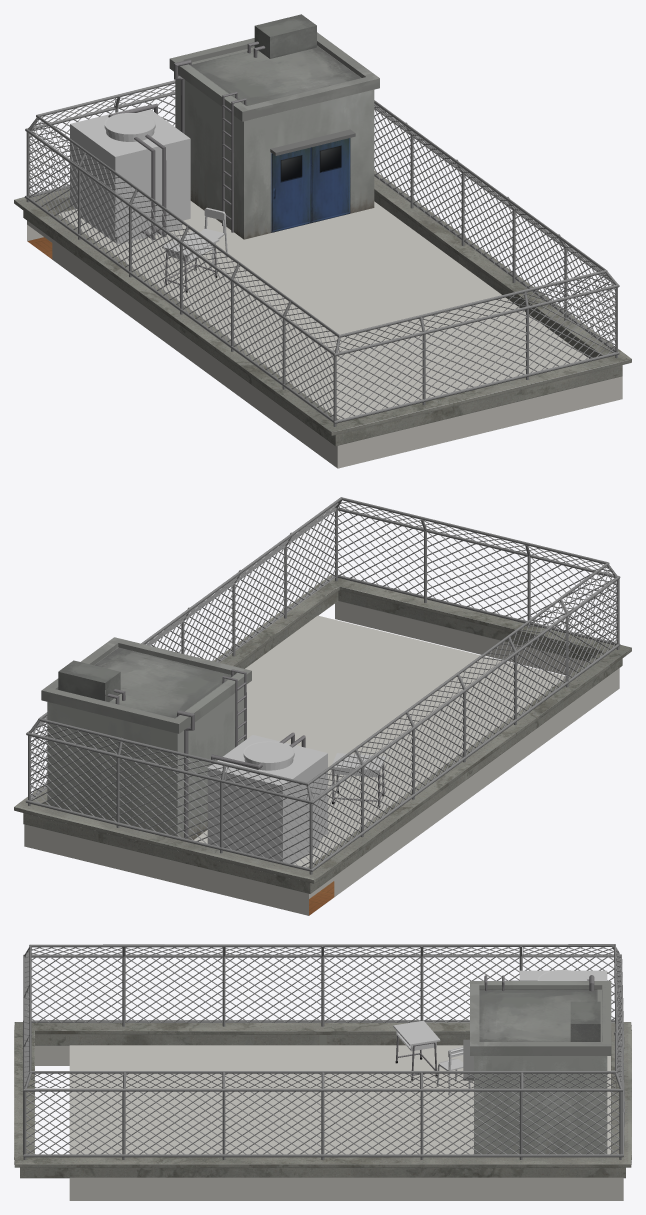
The model's file is deck05.fbx.
3 views of the same model, one above another, from view 1: azimuth 30°, elevation 25°; view 2: azimuth 150°, elevation 25°; view 3: azimuth 270°, elevation 25° (orthographic). The views are drawn at different scales.
Visible parts, largest first — view 1: Cube.008, Cube.005, Cube.009, Cube.006, Plane.034, Plane.038, Plane, Plane.014, Plane.013, Plane.015, Plane.003, Plane.002 (+16 smaller); view 2: Cube.008, Cube.005, Cube.009, Cube.006, Plane.034, Plane.038, Plane, Plane.014, Plane.017, Plane.013, Plane.016, Plane.018 (+15 smaller); view 3: Cube.008, Cube.009, Cube.005, Plane.034, Plane.038, Plane, Plane.007, Plane.008, Plane.009, Plane.006, Plane.001, Plane.005 (+22 smaller).
Part boxes in pixels (x1,y1,x2,y2): Cube.008: [27, 201, 622, 468]; Cube.005: [169, 14, 379, 239]; Cube.009: [14, 170, 631, 446]; Cube.006: [70, 105, 190, 244]; Plane.034: [36, 80, 607, 337]; Plane.038: [24, 173, 619, 423]; Plane: [25, 91, 619, 356]; Plane.014: [425, 310, 526, 398]; Plane.013: [529, 288, 615, 373]; Plane.015: [336, 335, 423, 420]; Plane.003: [412, 137, 461, 239]; Plane.002: [464, 175, 512, 277]; Cube.008: [24, 601, 619, 915]; Cube.005: [41, 637, 251, 839]; Cube.009: [14, 574, 631, 893]; Cube.006: [207, 735, 327, 864]; Plane.034: [38, 497, 609, 785]; Plane.038: [25, 575, 620, 871]; Plane: [26, 507, 620, 804]; Plane.014: [426, 532, 527, 621]; Plane.017: [119, 759, 219, 846]; Plane.013: [337, 510, 423, 596]; Plane.016: [30, 736, 116, 821]; Plane.018: [223, 783, 309, 867]; Cube.008: [35, 1045, 623, 1200]; Cube.009: [14, 1022, 631, 1178]; Cube.005: [470, 981, 611, 1154]; Plane.034: [29, 944, 618, 1073]; Plane.038: [23, 1019, 624, 1157]; Plane: [23, 954, 624, 1091]; Plane.007: [125, 956, 222, 1022]; Plane.008: [225, 956, 321, 1022]; Plane.009: [324, 956, 420, 1022]; Plane.006: [31, 956, 122, 1022]; Plane.001: [125, 1091, 222, 1154]; Plane.005: [522, 1091, 619, 1154].
Bounding box in the file's own units: 15616 × 8509 × 28631.
